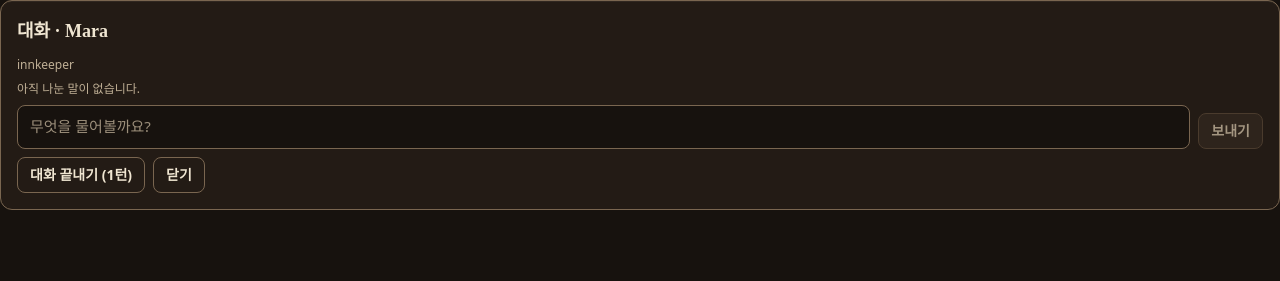
Test: DialoguePanel (US-4.1 / 4.3) › U8 BR-U8-27: a 503 for a missing provider says an LLM key is required
Type "누구세요?" into the field with test id "dialogue-input". click: (604, 127)
box: [17, 105, 1190, 149]
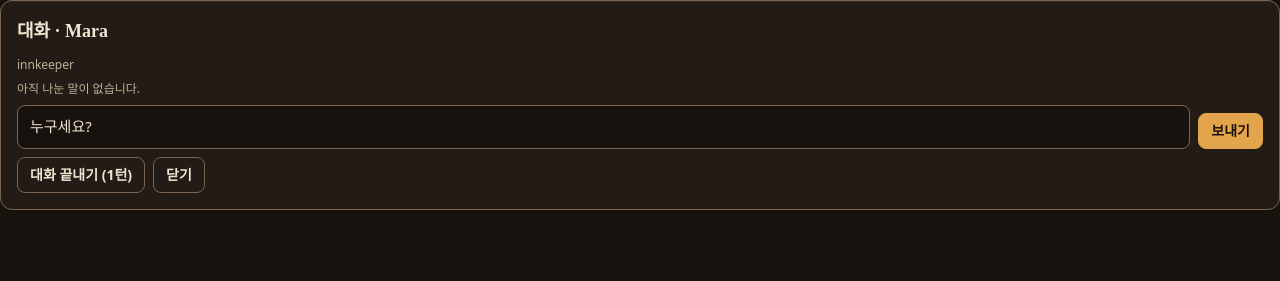
Click the button with test id "dialogue-send-btn". click: (1231, 131)
box: [1198, 113, 1263, 149]
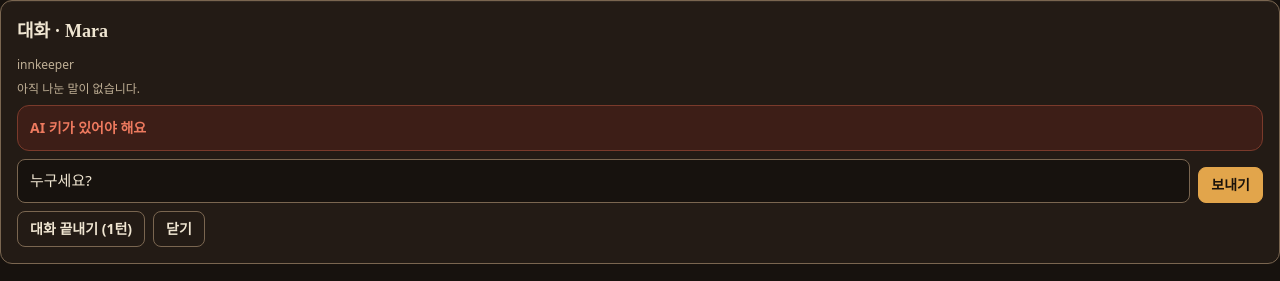
Check: the element with test id "dialogue-error" reads "AI 키가 있어야 해요", box [30, 118, 146, 137]
